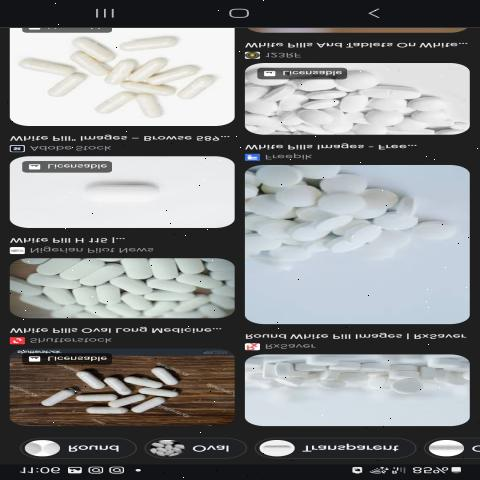Pill: (80, 179, 200, 205), (59, 33, 123, 68), (125, 92, 186, 128), (29, 71, 99, 102), (413, 212, 464, 251), (87, 88, 140, 120), (115, 31, 188, 54), (144, 361, 200, 390), (180, 72, 227, 100), (36, 386, 84, 412), (62, 372, 116, 391), (409, 94, 455, 112)
